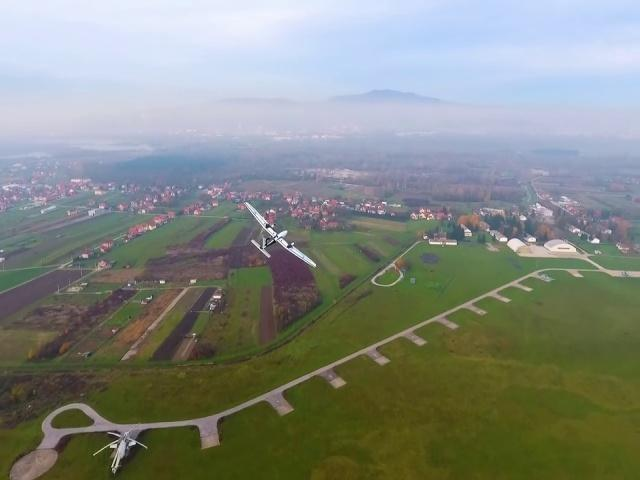Airplane: (242, 194, 320, 276)
